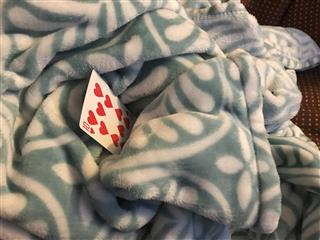TenOfHearts: (77, 68, 136, 155)
